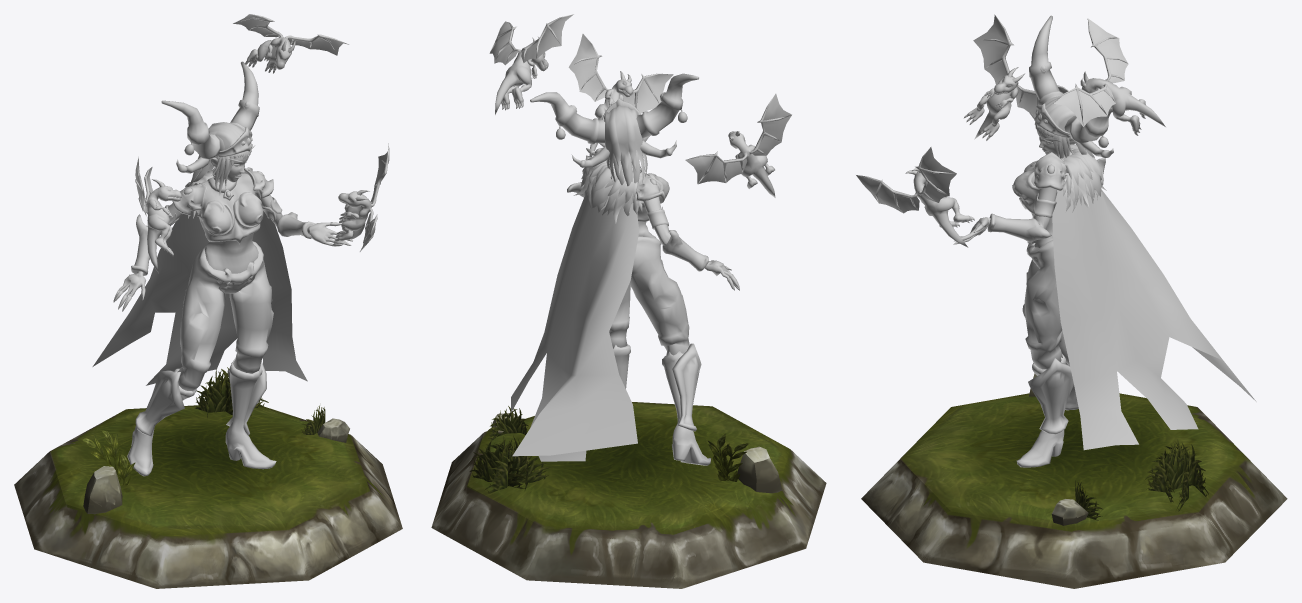
The model's file is pose3.fbx.
3 renders of one model, left to right at view 1: azimuth 30°, elevation 25°; view 2: azimuth 150°, elevation 25°; view 3: azimuth 270°, elevation 25°, orthographic. The views are drawn at different scales.
Parts seen in each view (by area): view 1: Cylinder001, Object035, Object036, Object046, dragon002, dragon001, dragon011; view 2: Cylinder001, Object035, Object036, Object046, dragon001, dragon002, dragon011; view 3: Cylinder001, Object035, Object036, Object046, dragon002, dragon001, dragon011.
Boxes of the visible parts, bbox=[...] form: Cylinder001: bbox=[14, 367, 402, 588]; Object035: bbox=[92, 167, 352, 385]; Object036: bbox=[127, 197, 282, 476]; Object046: bbox=[161, 61, 259, 195]; dragon002: bbox=[233, 14, 348, 73]; dragon001: bbox=[135, 156, 181, 273]; dragon011: bbox=[335, 143, 389, 251]; Cylinder001: bbox=[431, 402, 826, 588]; Object035: bbox=[511, 126, 739, 461]; Object036: bbox=[609, 206, 711, 465]; Object046: bbox=[530, 73, 698, 186]; dragon001: bbox=[685, 93, 791, 197]; dragon002: bbox=[489, 14, 573, 114]; dragon011: bbox=[568, 34, 673, 156]; Cylinder001: bbox=[861, 373, 1287, 588]; Object035: bbox=[953, 135, 1256, 450]; Object036: bbox=[1016, 193, 1078, 467]; Object046: bbox=[1029, 15, 1113, 158]; dragon002: bbox=[1053, 18, 1165, 135]; dragon001: bbox=[963, 14, 1068, 140]; dragon011: bbox=[856, 147, 974, 247].
Bounding box in the file's own units: 599 × 782 × 607.
